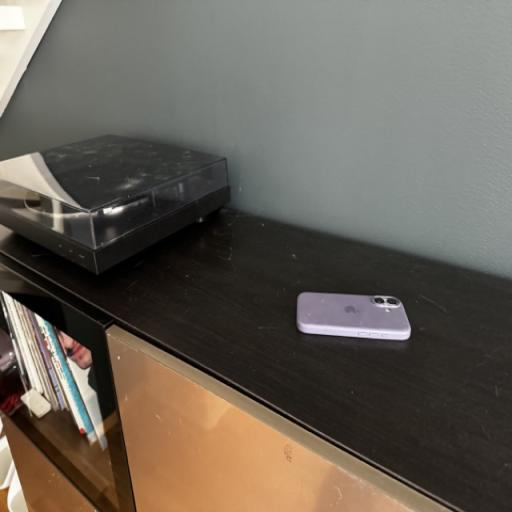phone: (298, 275, 436, 356)
